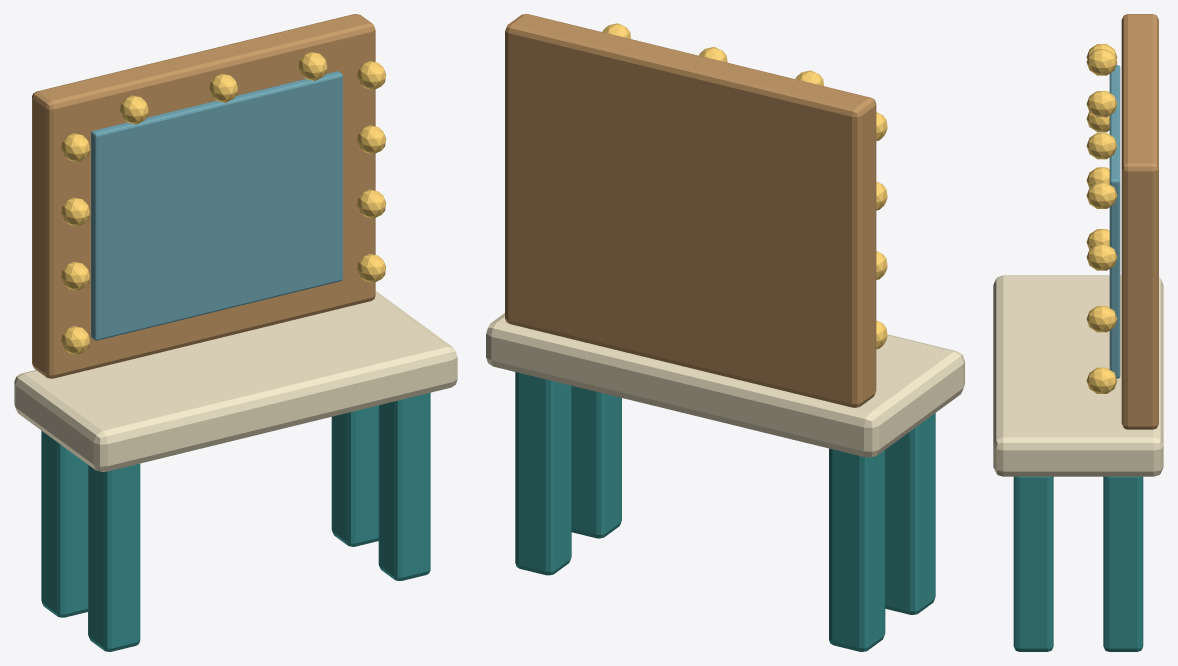
Rendered from S039_bulb_vanity.glb.
3 views of the same model, side by side, from view 1: azimuth 30°, elevation 25°; view 2: azimuth 150°, elevation 25°; view 3: azimuth 270°, elevation 25° (orthographic). The views are drawn at different scales.
Parts seen in each view (by area): view 1: fake_mirror, tabletop, mirror_back, table_leg, table_leg.002, table_leg.001, table_leg.003, vanity_bulb.008, vanity_bulb.001, vanity_bulb.004, vanity_bulb.010, vanity_bulb.005 (+6 smaller); view 2: mirror_back, tabletop, table_leg.001, table_leg.003, table_leg, table_leg.002; view 3: tabletop, mirror_back, table_leg.002, table_leg.003, fake_mirror, vanity_bulb.010, vanity_bulb.004, vanity_bulb.005, vanity_bulb.006, vanity_bulb.007, vanity_bulb.009, vanity_bulb.008 (+3 smaller).
Part boxes in pixels (x1=…): fake_mirror: x1=91, y1=71, x2=342, y2=340; tabletop: x1=14, y1=291, x2=457, y2=471; mirror_back: x1=32, y1=14, x2=375, y2=378; table_leg: x1=88, y1=463, x2=140, y2=651; table_leg.002: x1=378, y1=392, x2=430, y2=580; table_leg.001: x1=41, y1=430, x2=87, y2=617; table_leg.003: x1=331, y1=405, x2=378, y2=546; vanity_bulb.008: x1=120, y1=95, x2=148, y2=124; vanity_bulb.001: x1=61, y1=261, x2=89, y2=290; vanity_bulb.004: x1=357, y1=254, x2=385, y2=282; vanity_bulb.010: x1=298, y1=52, x2=327, y2=80; vanity_bulb.005: x1=357, y1=189, x2=385, y2=218; mirror_back: x1=505, y1=14, x2=876, y2=407; tabletop: x1=486, y1=313, x2=964, y2=457; table_leg.001: x1=829, y1=448, x2=885, y2=651; table_leg.003: x1=515, y1=372, x2=571, y2=575; table_leg: x1=885, y1=413, x2=935, y2=614; table_leg.002: x1=571, y1=386, x2=621, y2=538; tabletop: x1=993, y1=275, x2=1163, y2=476; mirror_back: x1=1121, y1=14, x2=1158, y2=429; table_leg.002: x1=1013, y1=476, x2=1053, y2=651; table_leg.003: x1=1103, y1=476, x2=1143, y2=651; fake_mirror: x1=1109, y1=65, x2=1120, y2=378; vanity_bulb.010: x1=1086, y1=132, x2=1117, y2=159; vanity_bulb.004: x1=1086, y1=367, x2=1117, y2=393; vanity_bulb.005: x1=1086, y1=306, x2=1117, y2=332; vanity_bulb.006: x1=1086, y1=244, x2=1117, y2=270; vanity_bulb.007: x1=1086, y1=182, x2=1117, y2=208; vanity_bulb.009: x1=1086, y1=91, x2=1117, y2=117; vanity_bulb.008: x1=1086, y1=49, x2=1117, y2=75.
Size of the model in its own units: 1.3 by 1.74 by 0.55.
